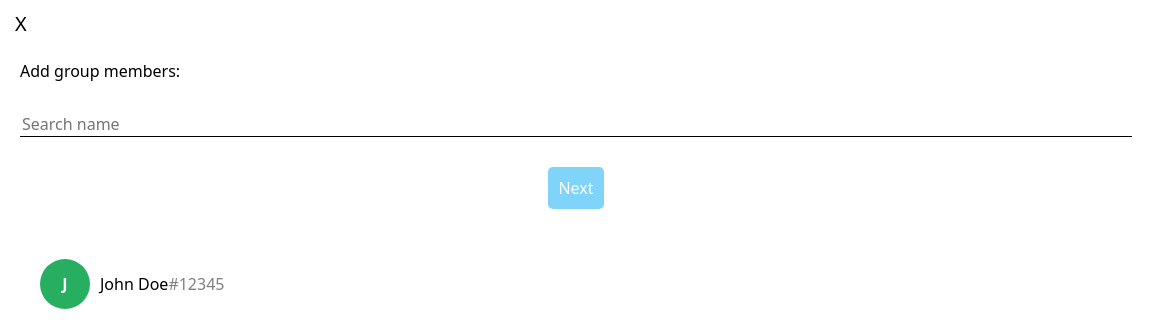
AddGroup Component › When clicking close › remove all the selected contacts
Click the button with test id "addContactToGroup" at (65, 284), box [30,249,1122,319]
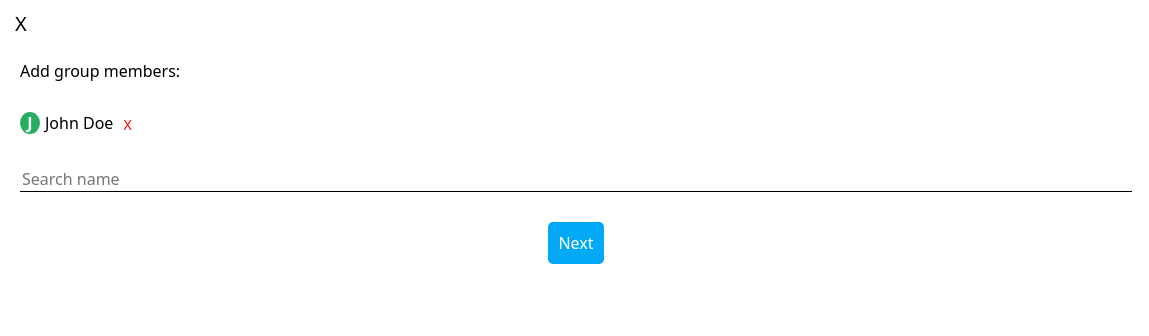
Expected: the list item with test id "selectedWrapper" is shown, [20,112,137,137]
Click the button with test id "closeBtn" at (21, 24), box [10,5,32,42]
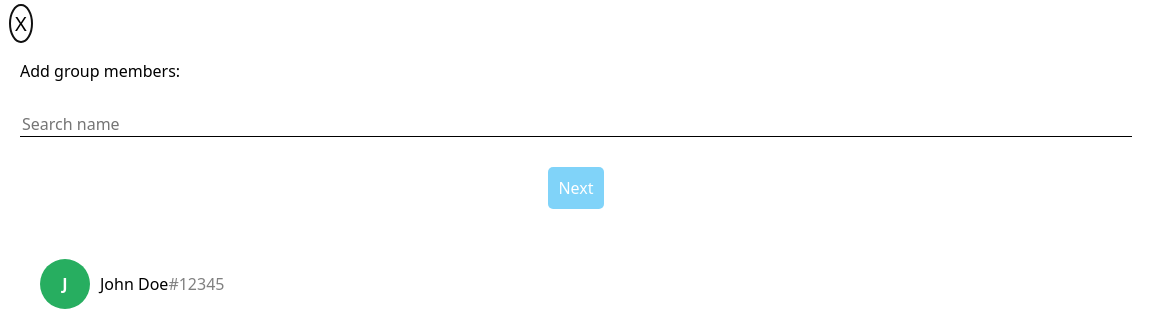
Expected: the list item with test id "selectedWrapper" is gone
